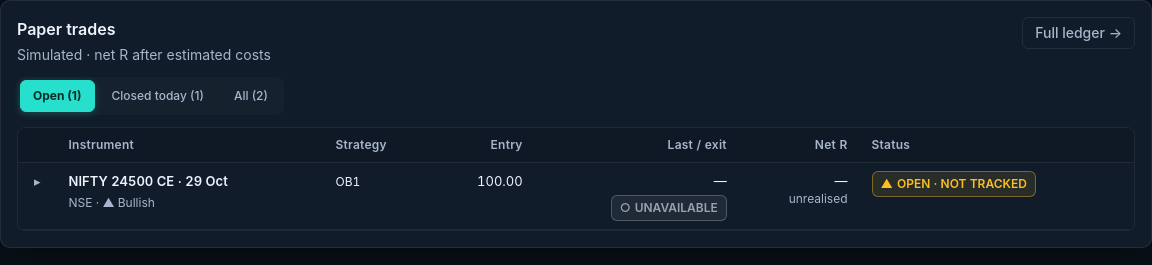
compact ledger uses recorded net R, keeps a missing mark missing and filters open/closed
expect the text "UNAVAILABLE" is shown: met, box [635,198,718,218]
Click the radio button labelled "Closed today (1)". click: (158, 96)
box: [98,80,217,112]
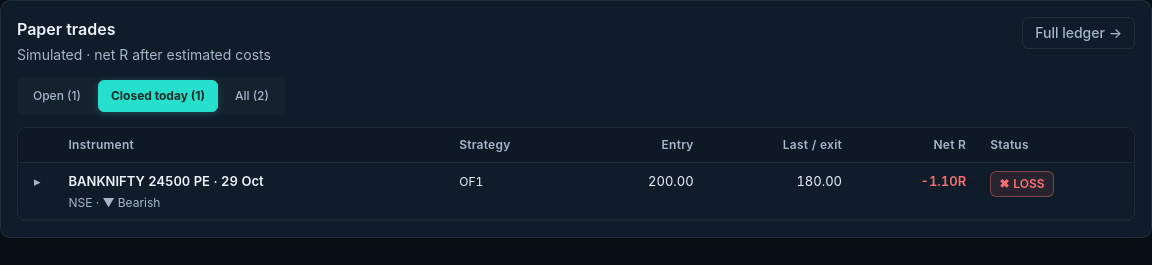
expect the text "-1.10R" is shown: met, box [920,173,966,189]
expect the text "OB1" is gone: met
